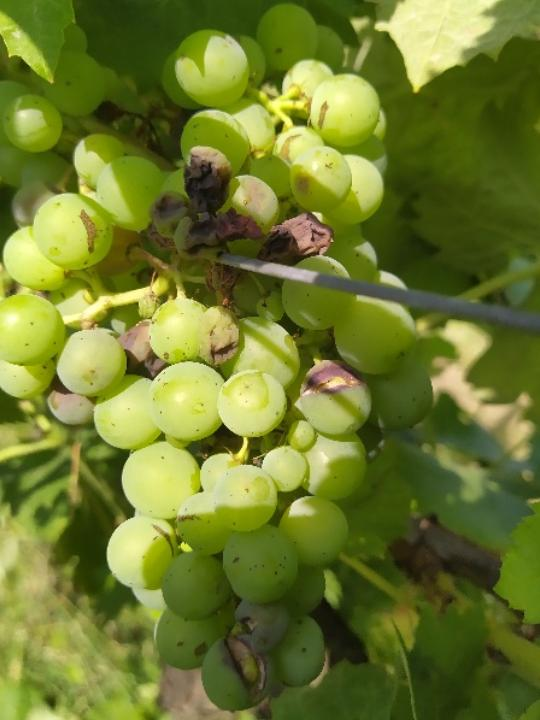grape: (0, 0, 436, 720)
